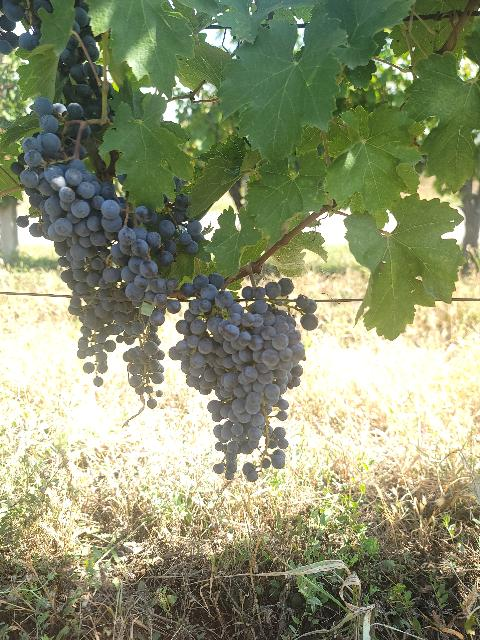grapes: (10, 98, 124, 248), (216, 278, 305, 386), (169, 272, 234, 394), (110, 226, 178, 326)
